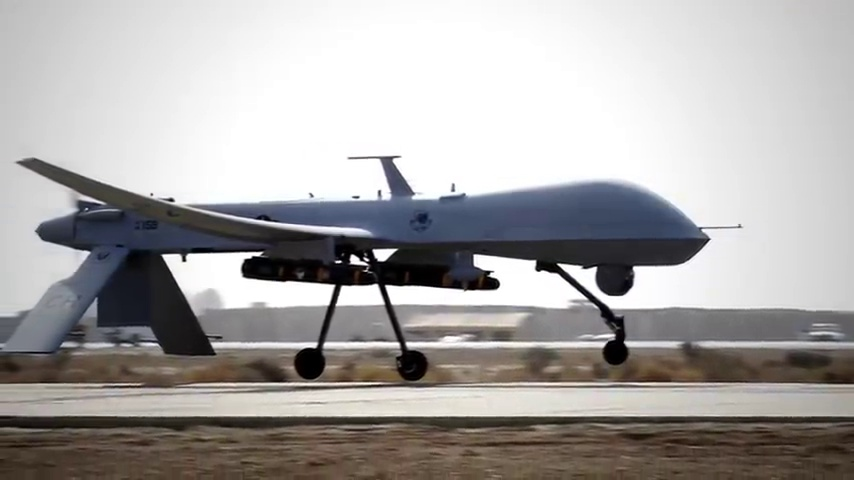military drone: (0, 155, 743, 382)
